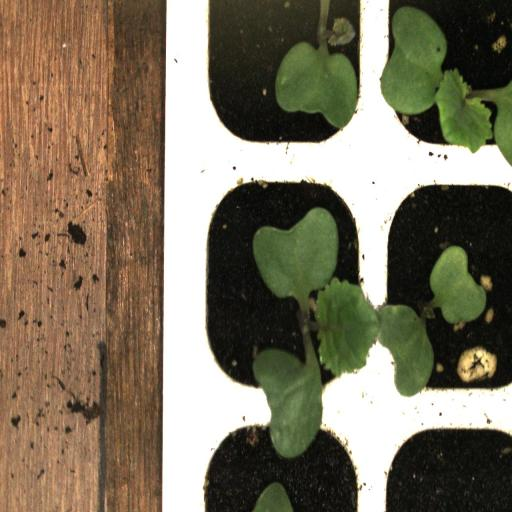seedling: (190, 164, 377, 406), (373, 165, 512, 411), (372, 0, 512, 170)
